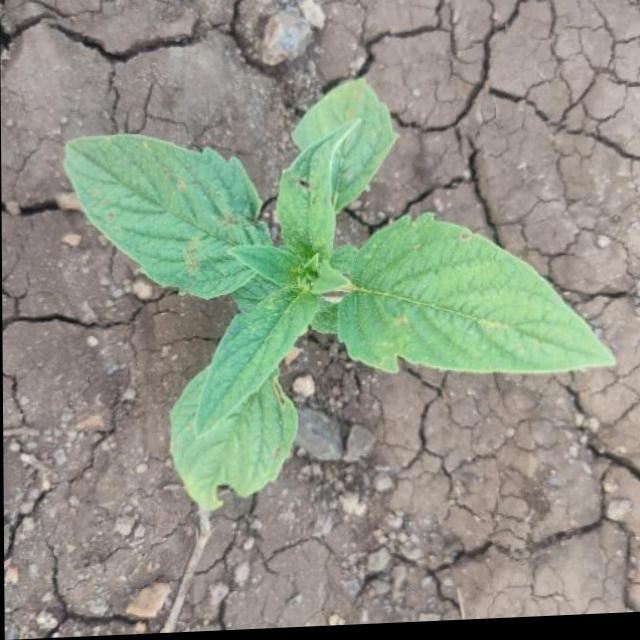crop: (58, 68, 618, 563)
